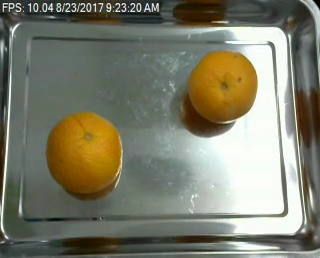Orange: (46, 110, 122, 195), (186, 48, 257, 122)
